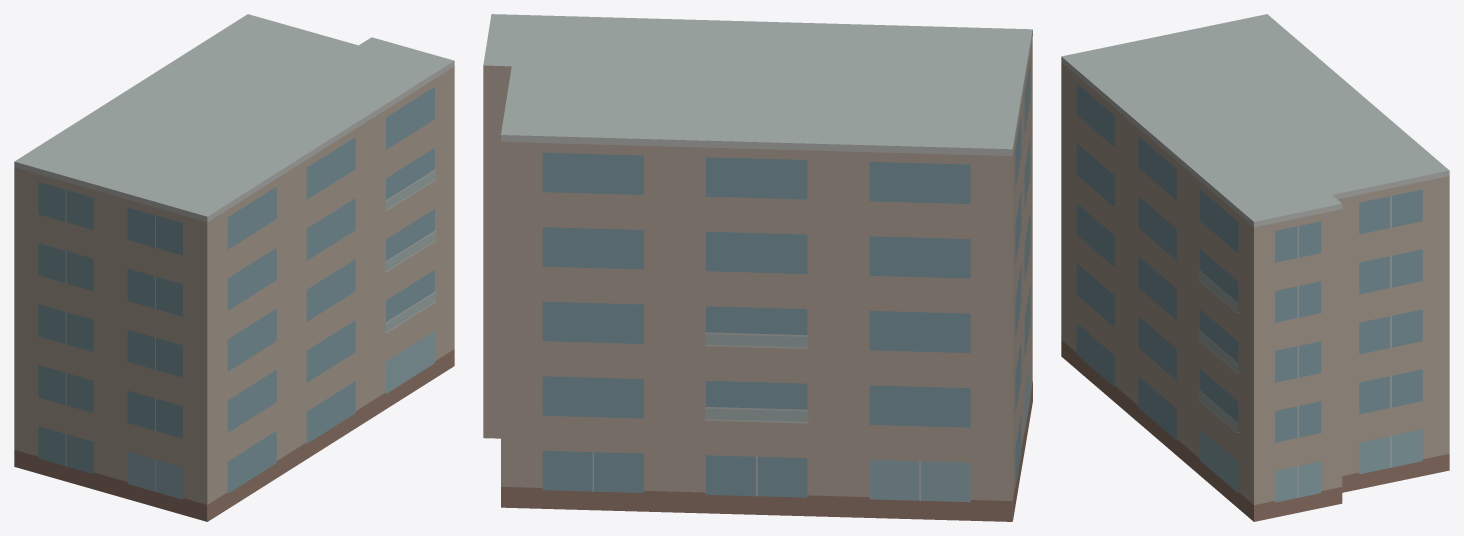
File: survey-upis-32832831.glb
The picture shows the model from 3 angles, left to right: view 1: azimuth 30°, elevation 25°; view 2: azimuth 150°, elevation 25°; view 3: azimuth 270°, elevation 25°; orthographic projection. The views are drawn at different scales.
Visible parts, largest first — view 1: survey-upis-32832831.tmp; view 2: survey-upis-32832831.tmp; view 3: survey-upis-32832831.tmp.
Boxes of the visible parts, box(x1,y1,x2,y2) form: survey-upis-32832831.tmp: box(14, 14, 454, 521); survey-upis-32832831.tmp: box(483, 14, 1032, 521); survey-upis-32832831.tmp: box(1061, 14, 1449, 521).
Bounding box in the file's own units: 19.79 × 13.3 × 15.62.
